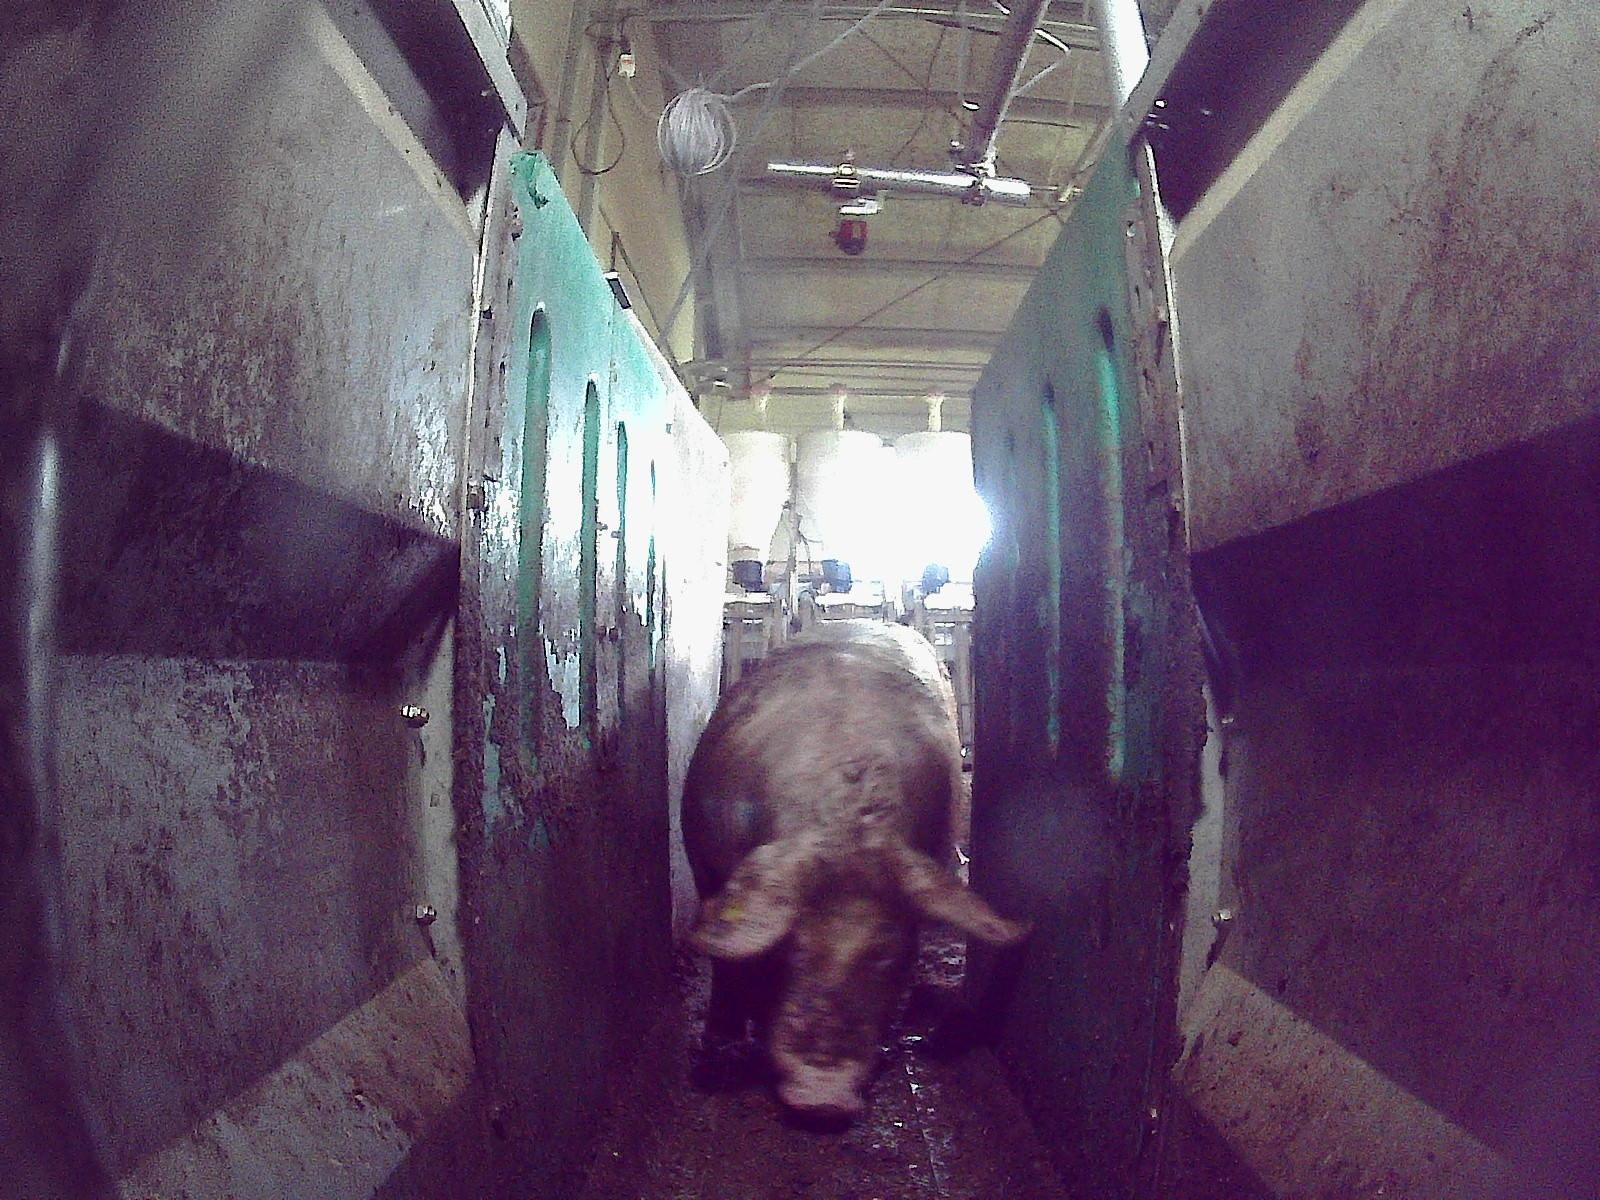Face: (734, 823, 918, 1119)
